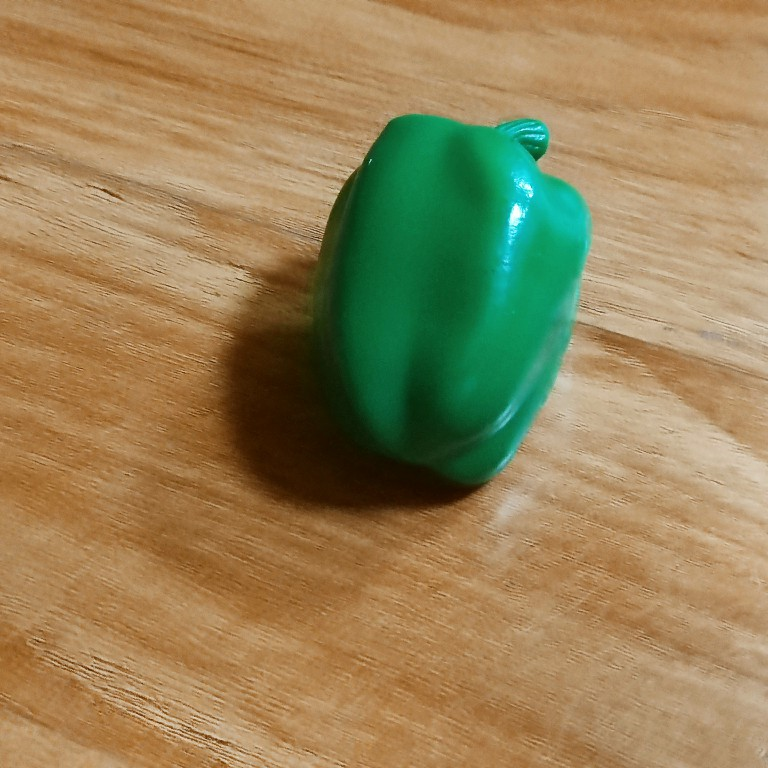fruit_pepper: (304, 108, 594, 490)
